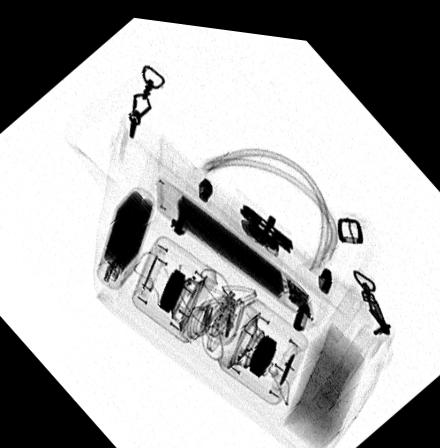Powerbank: (157, 172, 316, 316), (94, 182, 157, 287)
